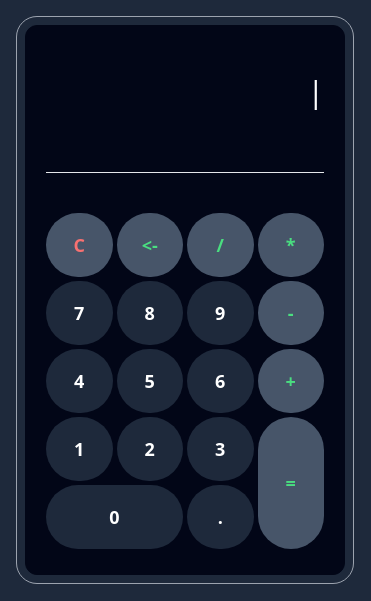
Test: App › should remove the last character in the input when the <- button is clicked
Click the button "9": (220, 312) x1=187 y1=280 x2=254 y2=344
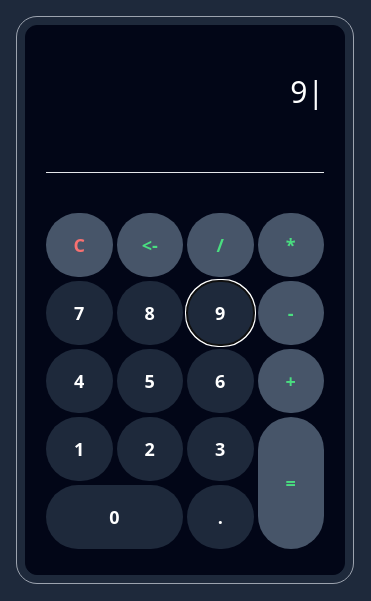
Click the button "*": (291, 244) x1=258 y1=212 x2=324 y2=276
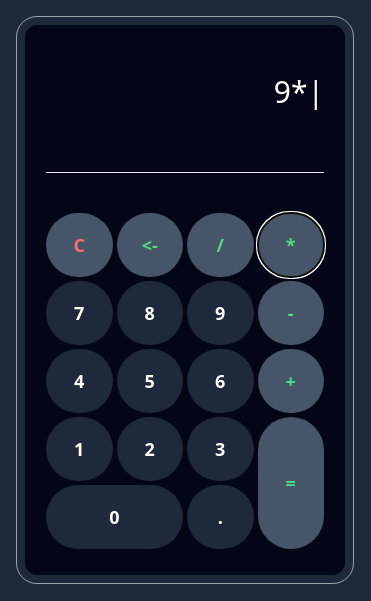
Click the button "<-": (150, 244) x1=116 y1=212 x2=183 y2=276
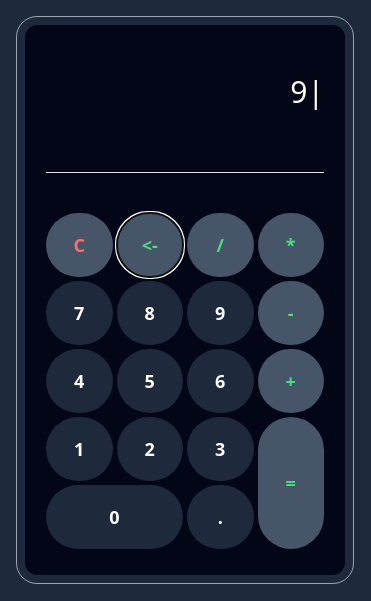
Expected: the field holds "9", x1=46 y1=74 x2=308 y2=110
